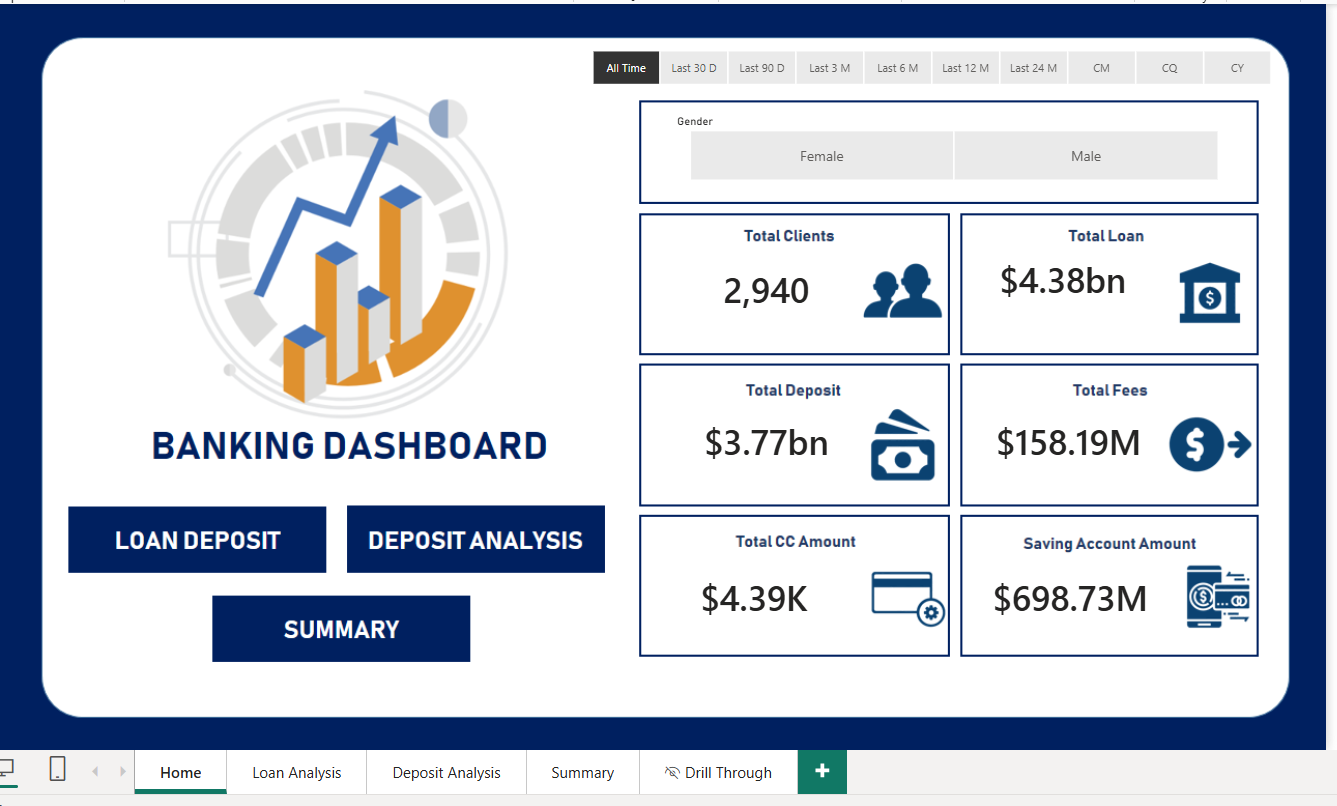

The page's visual inventory and layout, read from the dashboard file:
{"tool":"powerbi","page":{"name":"Home","canvas":[1280,720],"ordinal":0},"visuals":[{"type":"slicer","fields":{"Values":["Gender.Gender"]},"box":[640.3,100.8,558.2,75],"z":0},{"type":"card","fields":{"Values":["DAX Measures.Total Clients"]},"box":[640.3,218.1,198.2,114.9],"z":1000},{"type":"card","fields":{"Values":["DAX Measures.Total Loan"]},"box":[933.4,208.7,184.1,114.9],"z":2000},{"type":"card","fields":{"Values":["DAX Measures.Total Deposit"]},"box":[640.3,374.1,198.2,98.5],"z":3000},{"type":"card","fields":{"Values":["DAX Measures.Total CC Amount"]},"box":[628.5,533.6,198.2,79.7],"z":4000},{"type":"card","fields":{"Values":["DAX Measures.Total Fees"]},"box":[938.1,372.9,185.3,99.7],"z":5000},{"type":"card","fields":{"Values":["DAX Measures.Savings Account"]},"box":[933.4,533.6,198.2,79.7],"z":6000},{"type":"actionButton","box":[63.3,483.1,253.3,65.7],"z":7000},{"type":"actionButton","box":[335.4,485.5,250.9,63.3],"z":8000},{"type":"actionButton","box":[205.2,573.4,255.6,61],"z":9000},{"type":"slicer","fields":{"Values":["Period.Name"]},"box":[546.4,38.7,703.6,45.7],"z":10000}]}

Visuals, with their boxes on the page's 1280x720 design canvas (x1, y1, x2, y2). These are canvas units, not pixel positions in the 1337x806 screenshot, which may show the page scaled, cropped or inside an application window:
slicer - Gender.Gender: box=[640, 101, 1198, 176]
card - DAX Measures.Total Clients: box=[640, 218, 838, 333]
card - DAX Measures.Total Loan: box=[933, 209, 1118, 324]
card - DAX Measures.Total Deposit: box=[640, 374, 838, 473]
card - DAX Measures.Total CC Amount: box=[628, 534, 827, 613]
card - DAX Measures.Total Fees: box=[938, 373, 1123, 473]
card - DAX Measures.Savings Account: box=[933, 534, 1132, 613]
actionButton: box=[63, 483, 317, 549]
actionButton: box=[335, 486, 586, 549]
actionButton: box=[205, 573, 461, 634]
slicer - Period.Name: box=[546, 39, 1250, 84]
